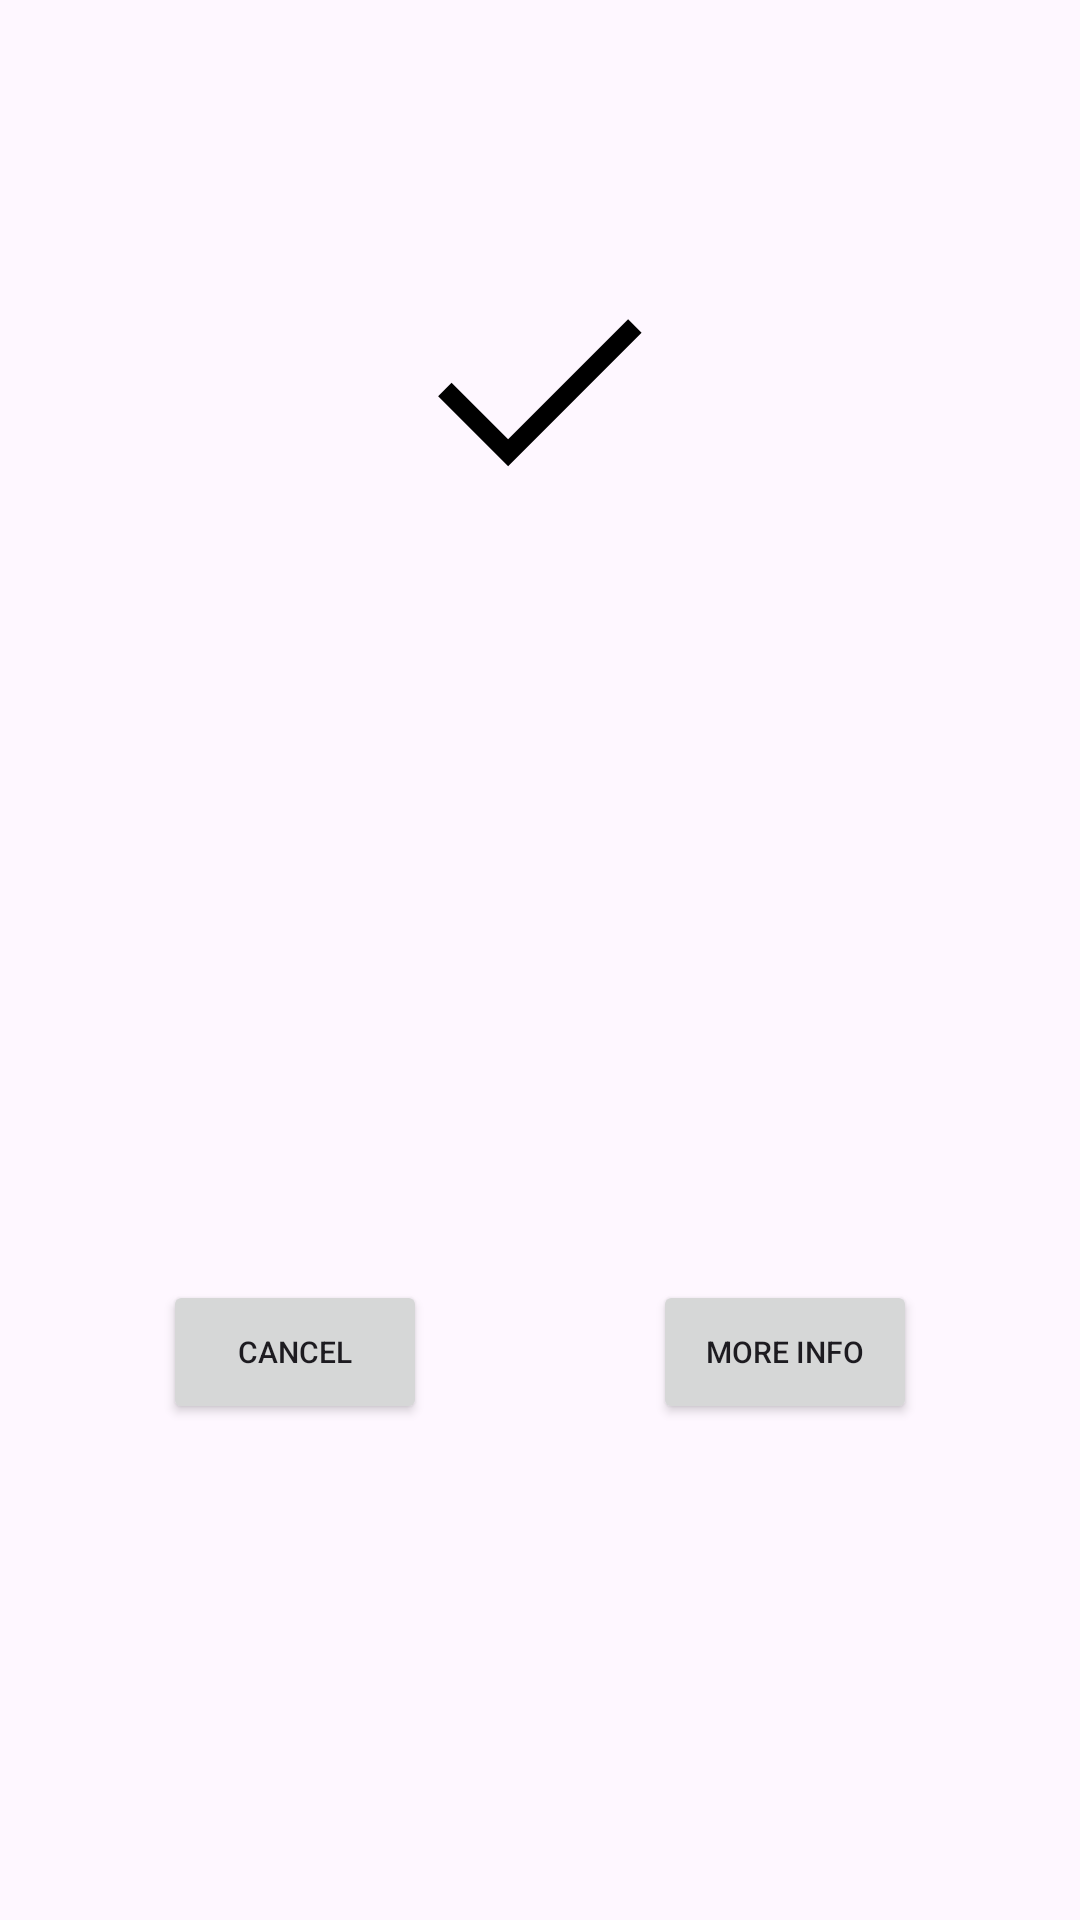

Point at icon controls on the screen. Image size 1080 × 1920, points as [x,y].
done: [540,392]
